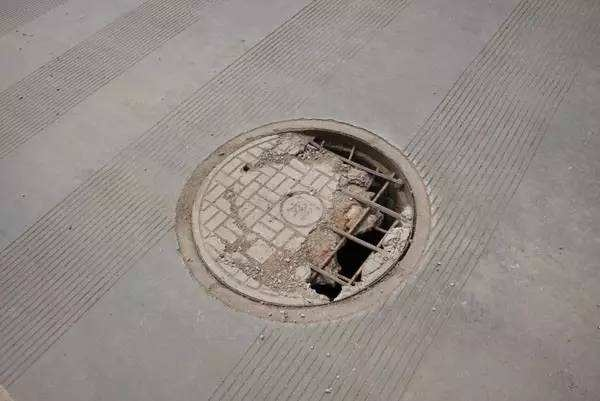well: (178, 117, 427, 314)
